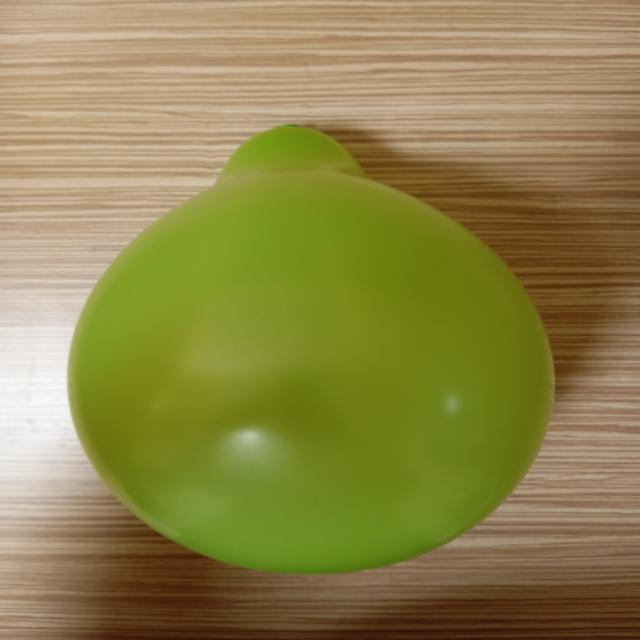balloon: (68, 126, 554, 573)
